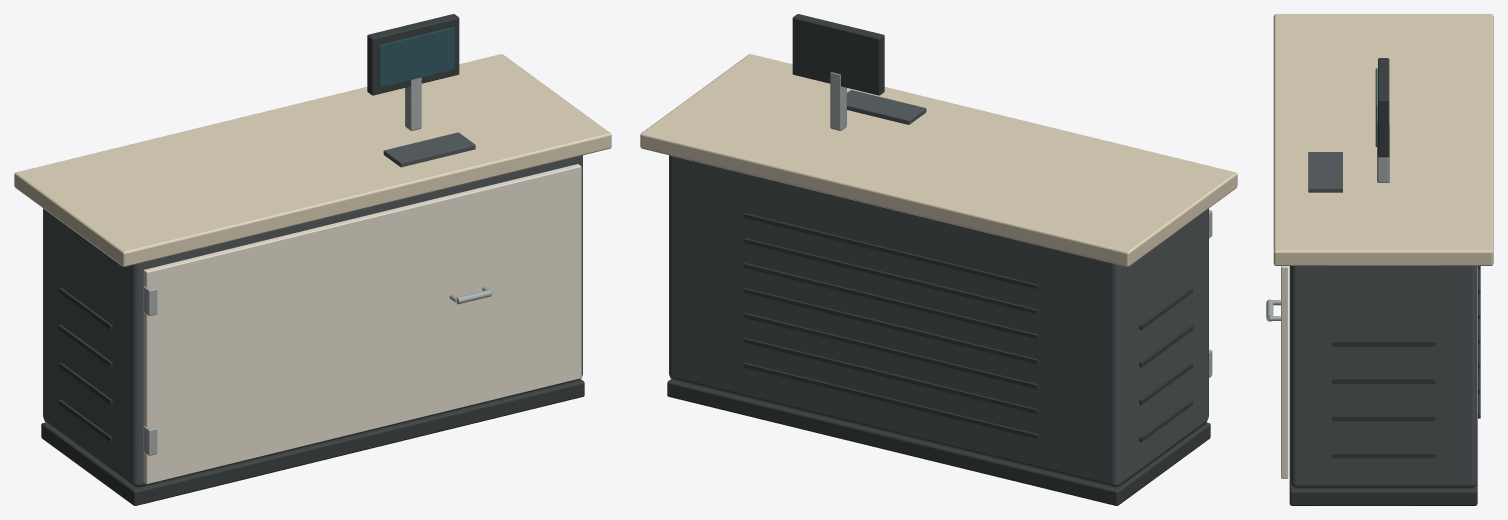
The model's file is indoor-climbing-and-bouldering-gym-indoor-climbing-and-728b96d9__31555.glb.
3 renders of one model, left to right at view 1: azimuth 30°, elevation 25°; view 2: azimuth 150°, elevation 25°; view 3: azimuth 270°, elevation 25°, orthographic.
Parts seen in each view (by area): view 1: indoor-climbing-and-bouldering-gym-membership-reception-coun (×6); view 2: indoor-climbing-and-bouldering-gym-membership-reception-coun (×4); view 3: indoor-climbing-and-bouldering-gym-membership-reception-coun (×5).
Boxes of the visible parts, <box> form: indoor-climbing-and-bouldering-gym-membership-reception-coun (×6): <box>14,14,611,505</box>; indoor-climbing-and-bouldering-gym-membership-reception-coun (×4): <box>640,14,1237,505</box>; indoor-climbing-and-bouldering-gym-membership-reception-coun (×5): <box>1266,14,1493,505</box>.
Size of the model in its own units: 1.95 by 1.4 by 0.785.
